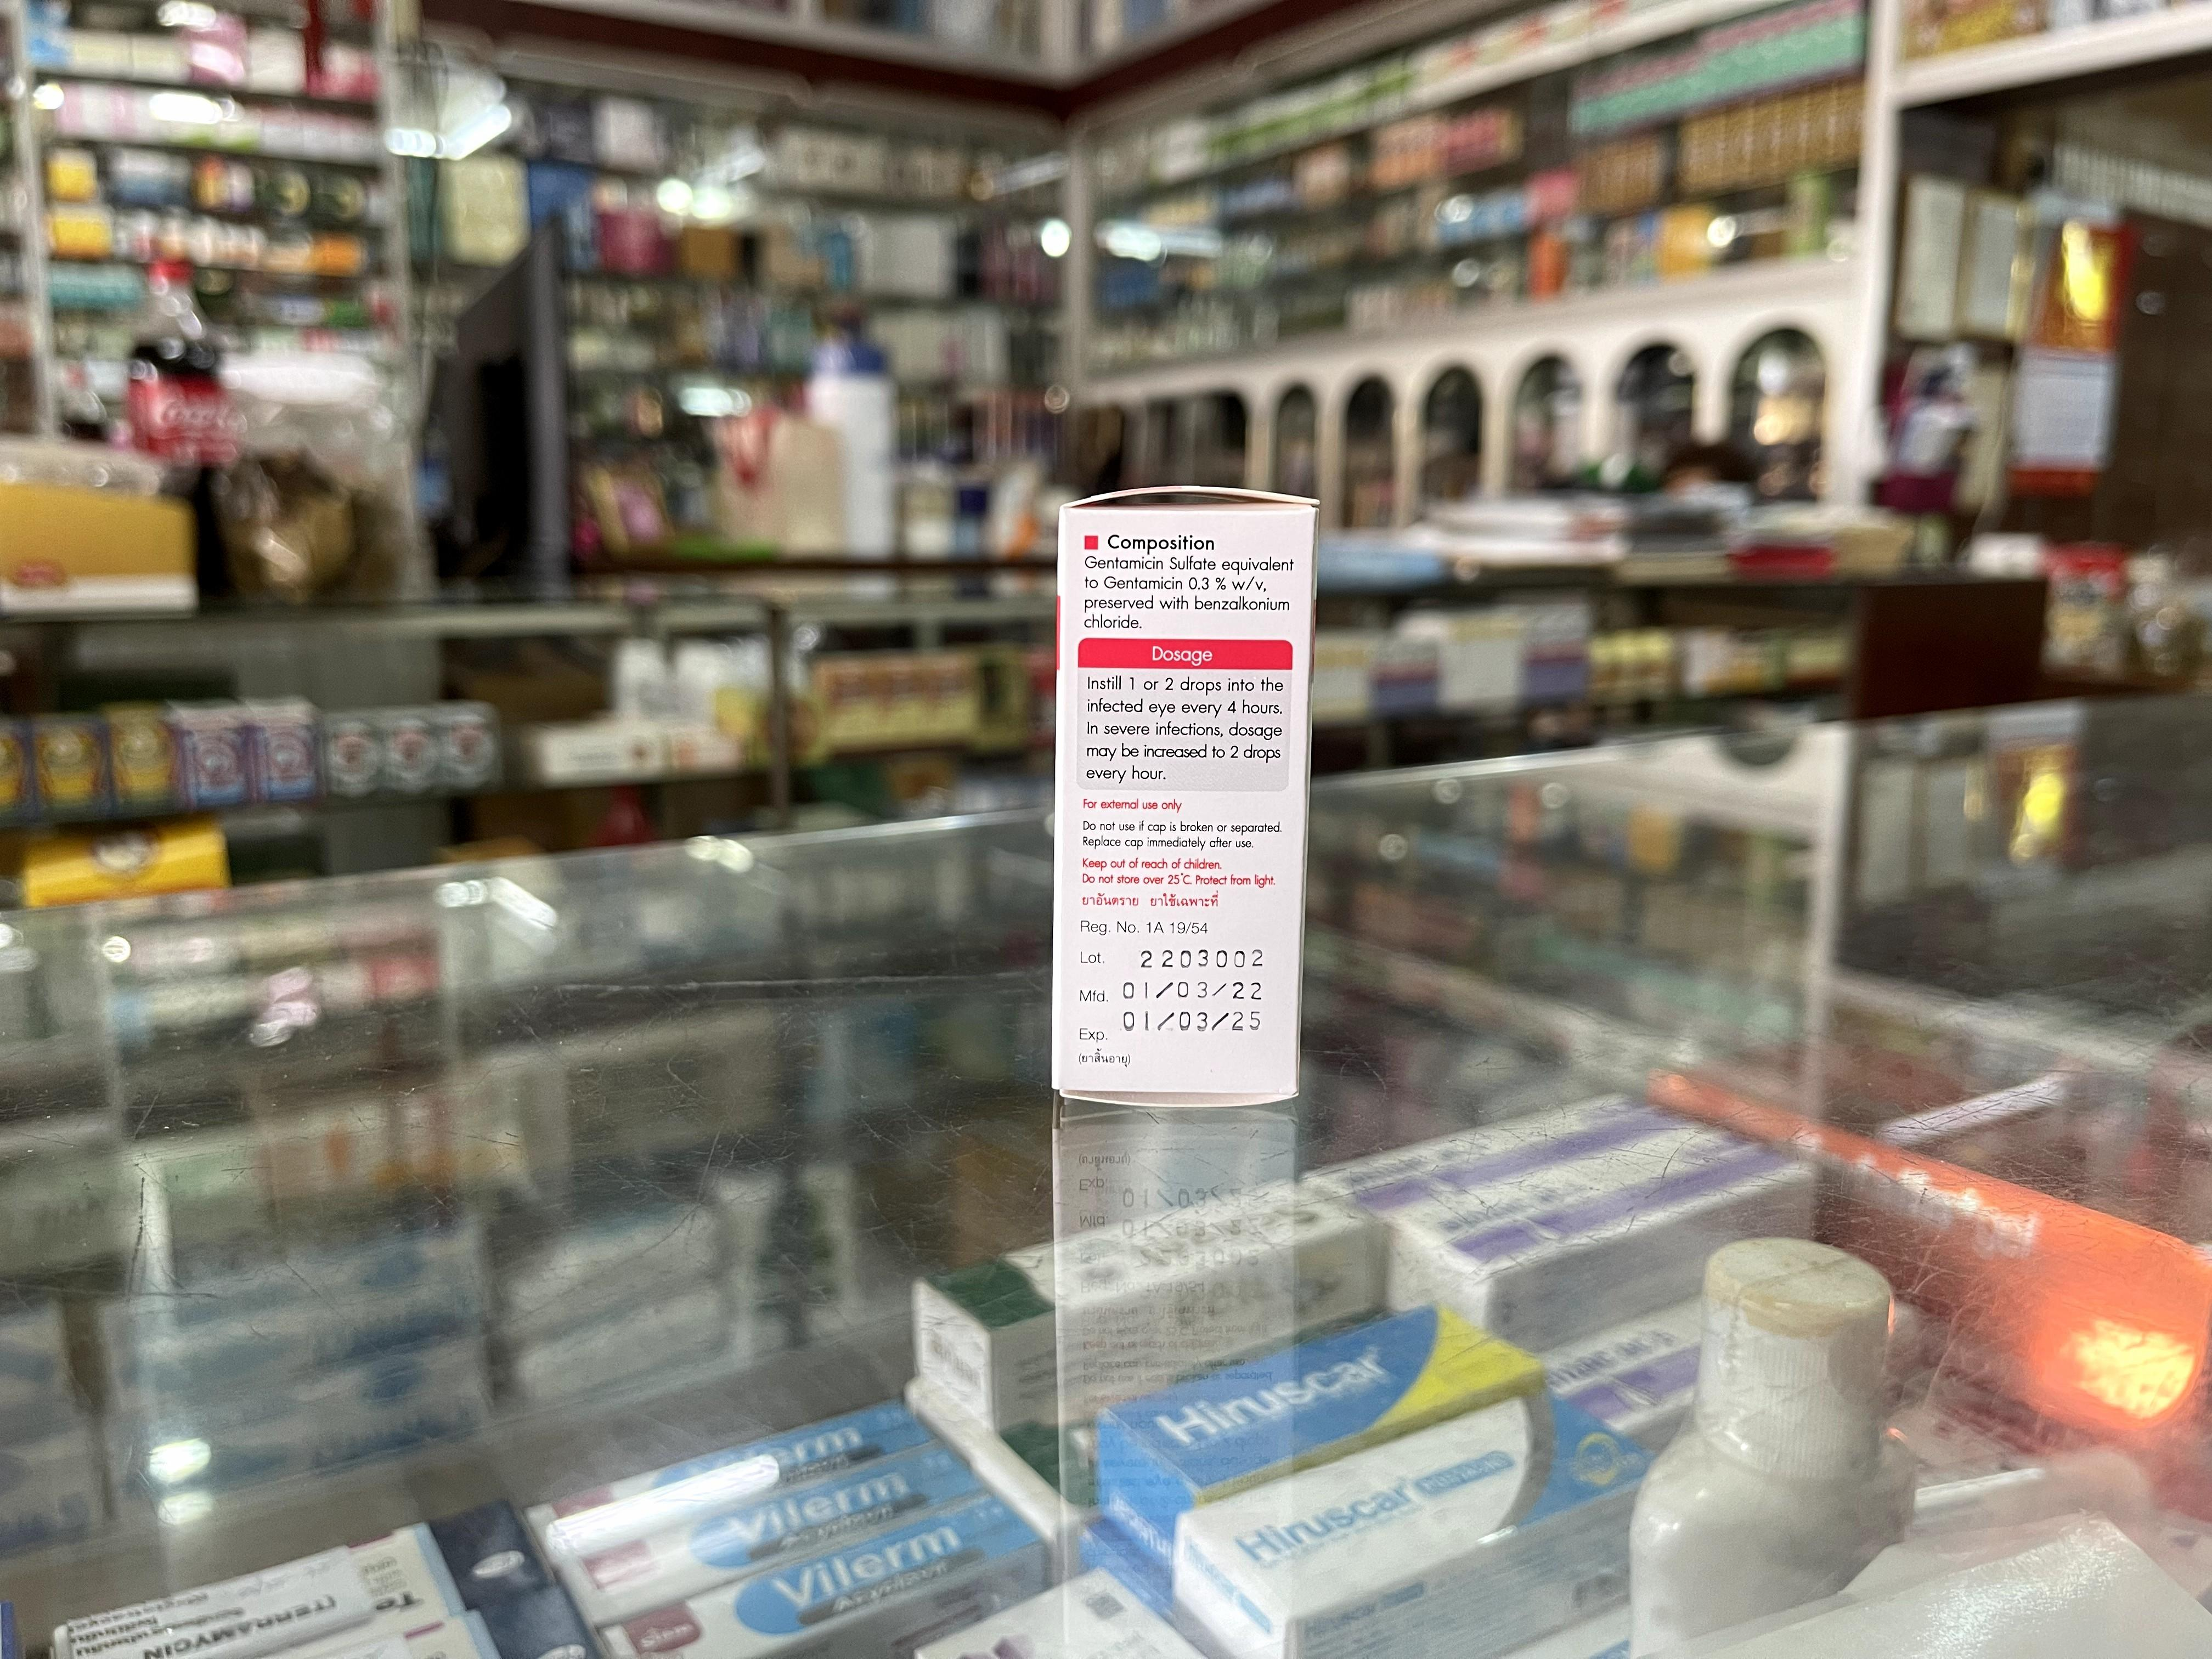Grafadex: (1050, 486, 1320, 1114)
